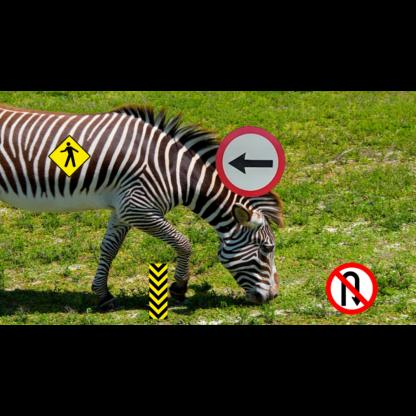A-32a: (48, 135, 91, 178)
O-MP: (149, 264, 167, 319)
R-24a: (215, 126, 285, 197)
